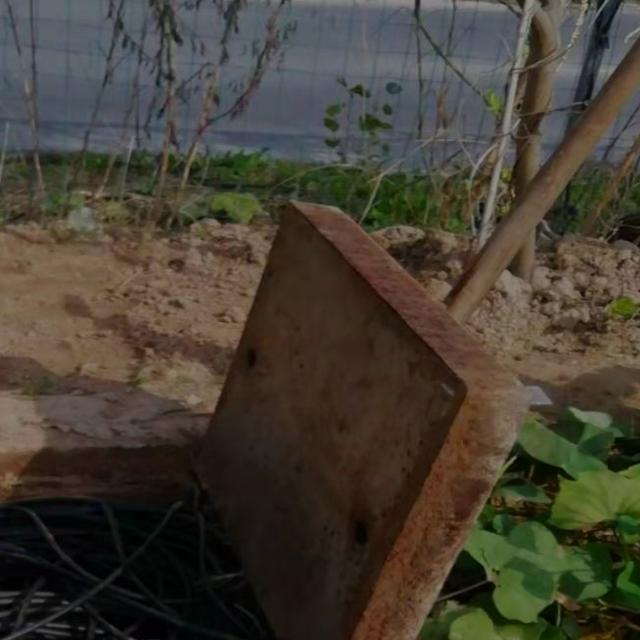uncovered: (0, 192, 561, 640)
